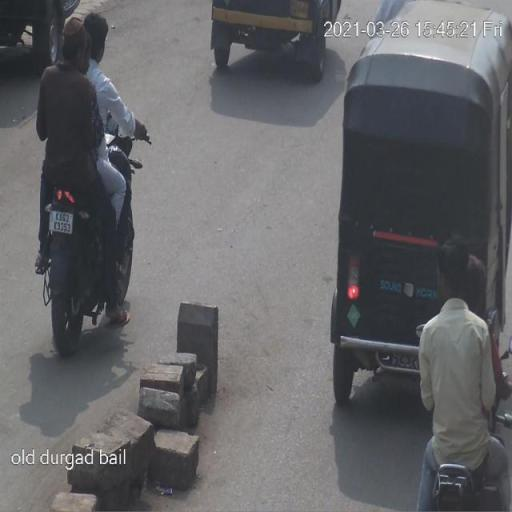tripple riding: (33, 10, 145, 213)
